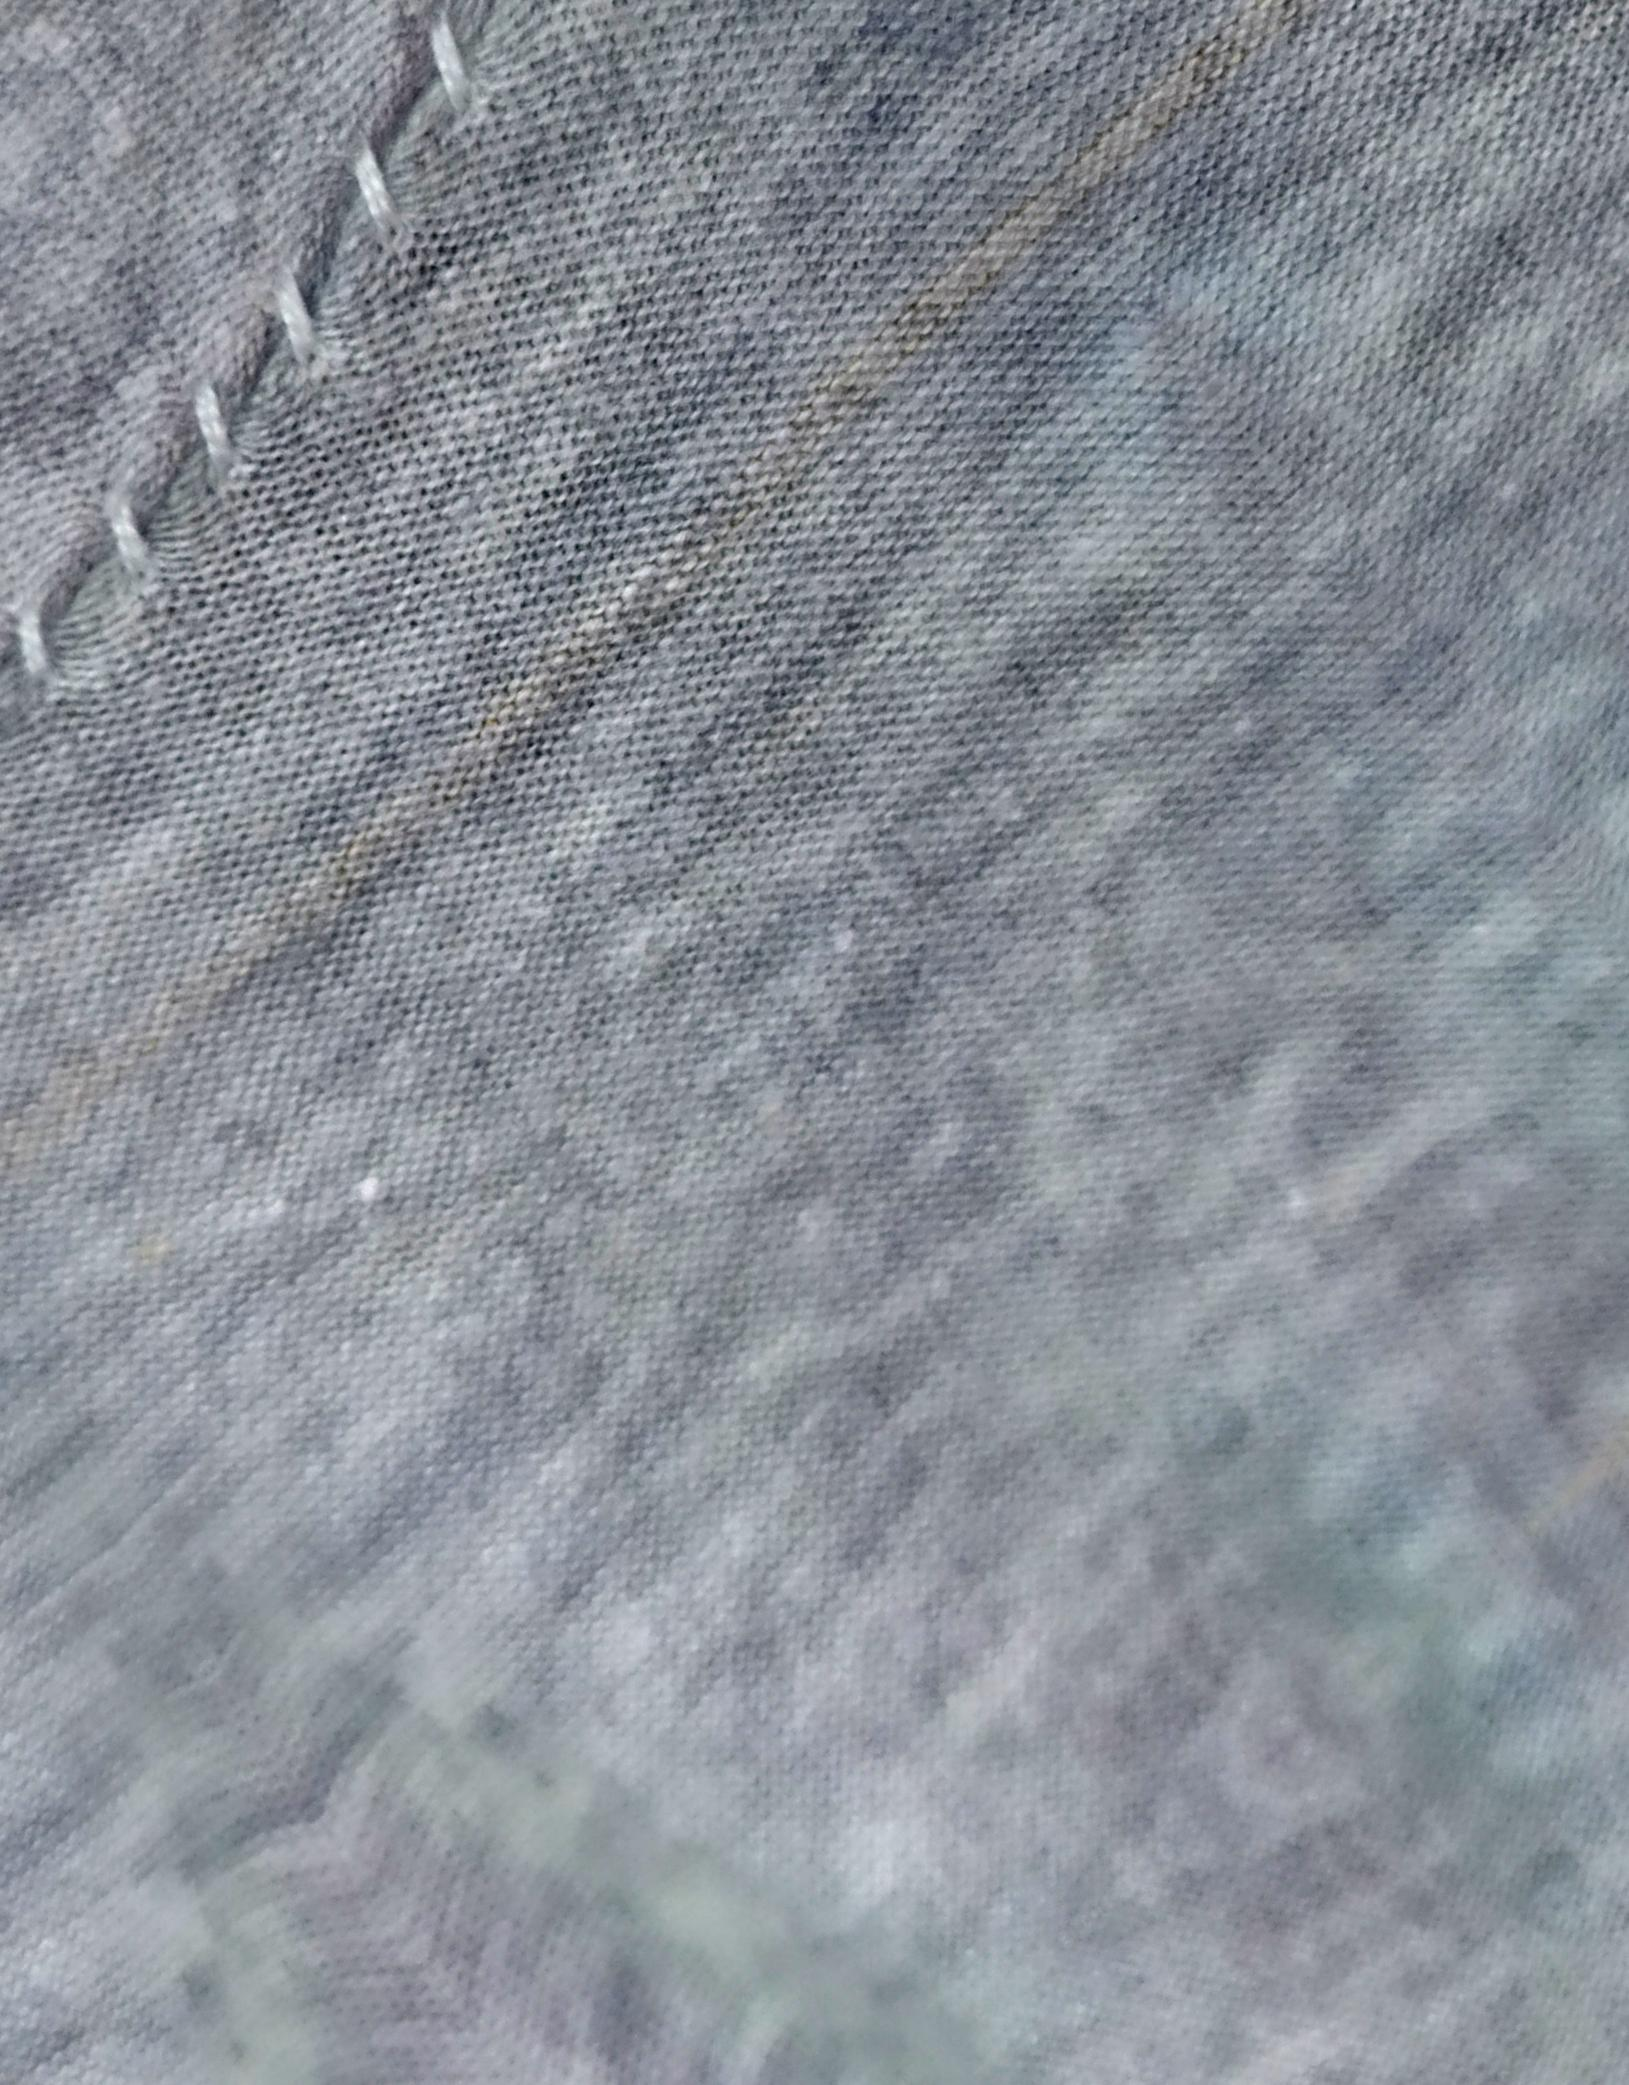slub: (8, 0, 489, 690)
